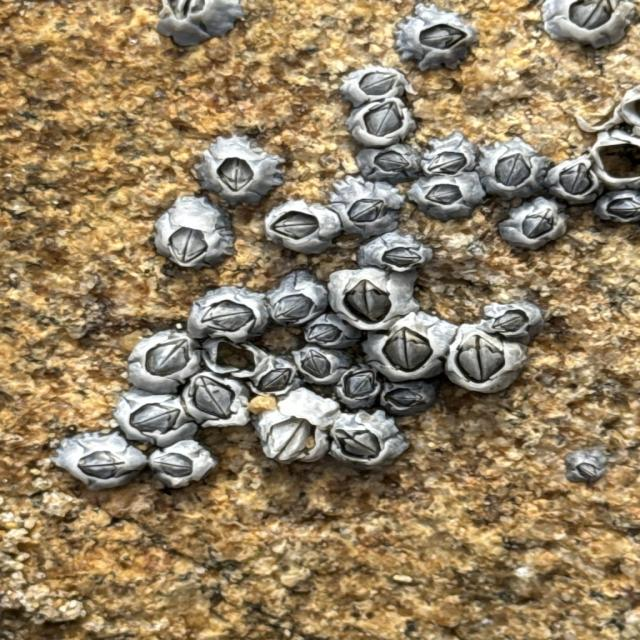barnacles: (142, 198, 239, 270), (140, 0, 255, 52), (51, 428, 140, 493), (455, 328, 529, 401), (260, 397, 331, 472), (195, 138, 274, 205), (532, 0, 639, 48), (382, 9, 472, 65), (118, 329, 196, 390), (381, 309, 444, 382), (186, 369, 252, 438), (334, 273, 411, 331), (253, 208, 344, 255), (332, 416, 412, 469), (109, 393, 196, 441), (496, 203, 576, 249), (189, 291, 267, 338), (336, 178, 401, 232), (477, 144, 539, 200), (414, 176, 484, 223), (364, 234, 437, 275), (158, 449, 228, 488), (483, 296, 547, 338), (357, 100, 414, 146), (266, 276, 318, 326), (355, 146, 421, 183), (548, 160, 602, 204), (416, 138, 474, 176), (250, 352, 297, 398), (305, 313, 359, 353), (338, 68, 414, 95), (339, 366, 387, 408), (383, 380, 434, 415), (298, 348, 340, 386)
